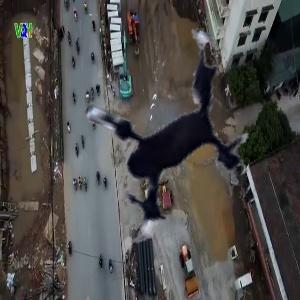drone: (31, 6, 284, 259)
